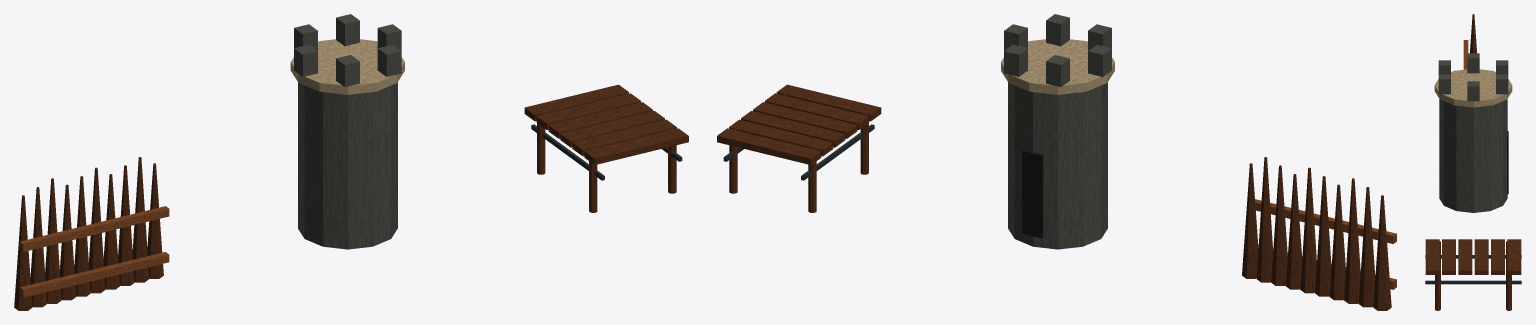
The model's file is KIT_salt_and_iron_blockade.gltf.
3 views of the same model, side by side, from view 1: azimuth 30°, elevation 25°; view 2: azimuth 150°, elevation 25°; view 3: azimuth 270°, elevation 25° (orthographic). The views are drawn at different scales.
Visible parts, largest first — view 1: 02_tower, 01_palisade, 03_pier; view 2: 02_tower, 01_palisade, 03_pier; view 3: 02_tower, 03_pier, 01_palisade.
Boxes of the visible parts, <box> form: 02_tower: <box>290,14,404,249</box>; 01_palisade: <box>14,157,169,310</box>; 03_pier: <box>524,84,688,212</box>; 02_tower: <box>1001,14,1114,249</box>; 01_palisade: <box>1242,157,1396,310</box>; 03_pier: <box>717,84,881,212</box>; 02_tower: <box>1434,53,1512,212</box>; 03_pier: <box>1425,239,1521,310</box>; 01_palisade: <box>1463,14,1476,69</box>.
Size of the model in its own units: 13.55 by 4.19 by 2.6.
6 materials, 6 textured.
